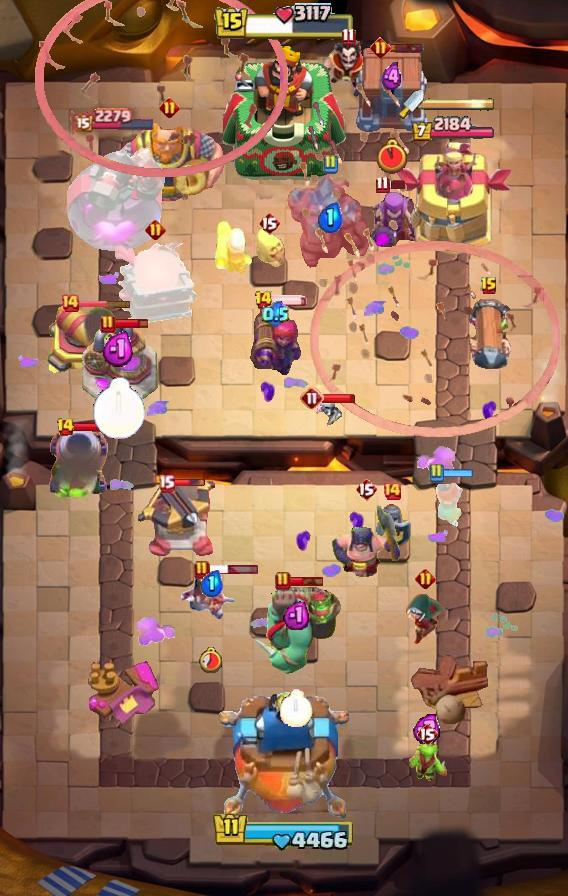bar: (395, 142, 514, 256)
bat-evolution: (252, 224, 286, 268)
battle-healer: (465, 295, 513, 377)
bomb: (353, 48, 431, 134)
cannoneer-tower: (286, 175, 374, 273)
clock: (212, 811, 356, 853), (213, 3, 355, 43)
dart-goblin: (114, 243, 199, 325)
electro-spirit: (102, 331, 136, 369), (414, 712, 442, 744), (317, 203, 343, 234), (283, 599, 309, 630), (262, 300, 289, 327), (381, 62, 403, 92), (200, 571, 223, 598)
elixir: (92, 377, 146, 439), (280, 689, 313, 727), (377, 138, 407, 174), (198, 646, 224, 673)
emote: (207, 565, 259, 576), (78, 300, 132, 309), (270, 294, 308, 306), (114, 317, 149, 330), (388, 42, 425, 54), (289, 575, 325, 587), (74, 420, 111, 431), (322, 392, 356, 403), (441, 469, 475, 480), (172, 478, 206, 488), (387, 178, 407, 189)
giant-skeleton: (111, 118, 227, 208)
goblin-cage: (46, 427, 110, 497)
heal-spirit: (316, 397, 342, 426)
hog-rider: (431, 478, 469, 530)
king-tower: (219, 692, 349, 826), (223, 43, 345, 181)
king-tower-bar: (424, 97, 496, 111)
lava-hound: (249, 584, 343, 678)
lava-pup: (138, 480, 220, 560)
lumberjack: (320, 40, 376, 100)
mega-minion: (249, 303, 301, 375)
monk: (331, 505, 401, 581)
pekka: (80, 320, 158, 402)
princess: (372, 497, 412, 555)
rascal-girl: (368, 188, 418, 250)
royal-recruit: (46, 305, 118, 379)
selected: (412, 116, 497, 143), (72, 108, 155, 133)
skeleton-barrel: (298, 81, 562, 440), (32, 0, 288, 179)
skeleton-dragon: (180, 574, 242, 626)
tesla: (394, 594, 456, 644)
text: (300, 386, 324, 410), (258, 211, 280, 235), (355, 477, 377, 501), (416, 722, 438, 746), (415, 567, 437, 588), (369, 37, 390, 58), (160, 98, 181, 119), (146, 219, 167, 240), (60, 293, 80, 313), (382, 481, 402, 501), (255, 290, 274, 310), (56, 417, 75, 437), (480, 276, 498, 296), (158, 475, 175, 494), (322, 154, 338, 174), (100, 314, 116, 334), (428, 463, 444, 483), (194, 560, 210, 580), (275, 571, 291, 591), (341, 27, 355, 46), (375, 175, 389, 193)
tombstone: (213, 218, 255, 276)
tower-bar: (63, 136, 165, 256)
zap: (406, 743, 448, 781)
